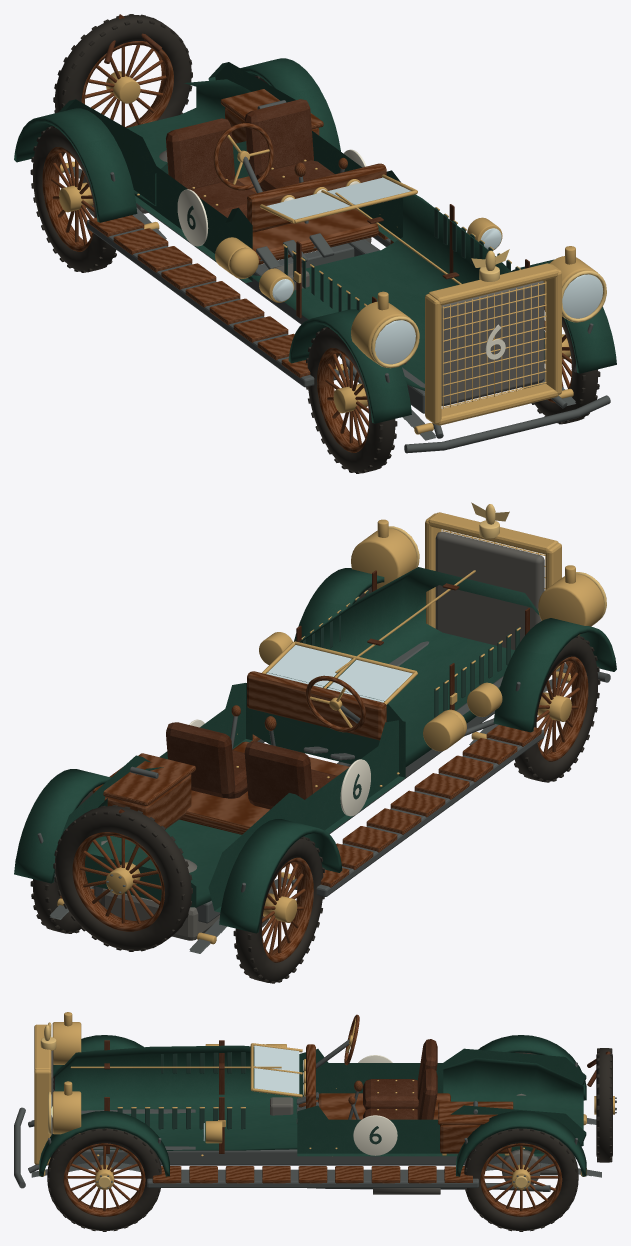
Rendered from RussoBalt_C24_55_LOD0.fbx.
3 views of the same model, one above another, from view 1: azimuth 30°, elevation 25°; view 2: azimuth 150°, elevation 25°; view 3: azimuth 270°, elevation 25° (orthographic). The views are drawn at different scales.
Parts seen in each view (by area): view 1: RB_Body_Root_OPT_Merged_RB_Paint_RacingGreen_OPT_DATA, RB_Radiator_Root_OPT_Merged_RB_Brass_Aged_OPT_DATA, RB_Body_Root_OPT_Merged_RB_Wood_Walnut_OPT_DATA, RB_Cockpit_Root_OPT_Merged_RB_Leather_Saddle_OPT_DATA, RB_Radiator_Core_OPT, RB_Wheel_SPARE_Spin_OPT_Merged_RB_Tire_Rubber_OPT_DATA, RB_Body_Root_OPT_Merged_RB_Brass_Aged_OPT_DATA, RB_Body_Root_OPT_Merged_RB_Steel_Blackened_OPT_DATA, RB_Wheel_FL_Spin_OPT_Merged_RB_Tire_Rubber_OPT_DATA, RB_Body_Root_OPT_Merged_RB_Acetylene_Glass_OPT_DATA, RB_Wheel_RL_Spin_OPT_Merged_RB_Tire_Rubber_OPT_DATA, RB_Chassis_Root_OPT_Merged_RB_Steel_Blackened_OPT_DATA (+17 smaller); view 2: RB_Body_Root_OPT_Merged_RB_Paint_RacingGreen_OPT_DATA, RB_Body_Root_OPT_Merged_RB_Wood_Walnut_OPT_DATA, RB_Body_Root_OPT_Merged_RB_Brass_Aged_OPT_DATA, RB_Radiator_Core_OPT, RB_Wheel_SPARE_Spin_OPT_Merged_RB_Tire_Rubber_OPT_DATA, RB_Cockpit_Root_OPT_Merged_RB_Leather_Saddle_OPT_DATA, RB_Cockpit_Root_OPT_Merged_RB_Wood_Walnut_OPT_DATA, RB_C24_55_Root_OPT_Merged_RB_Wood_Walnut_OPT_DATA, RB_Wheel_SPARE_Spin_OPT_Merged_RB_Wood_Walnut_OPT_DATA, RB_Windshield_Pivot_OPT_Merged_RB_Acetylene_Glass_OPT_DATA, RB_Wheel_RL_Spin_OPT_Merged_RB_Tire_Rubber_OPT_DATA, RB_Radiator_Root_OPT_Merged_RB_Brass_Aged_OPT_DATA (+16 smaller); view 3: RB_Body_Root_OPT_Merged_RB_Paint_RacingGreen_OPT_DATA, RB_Chassis_Root_OPT_Merged_RB_Steel_Blackened_OPT_DATA, RB_Body_Root_OPT_Merged_RB_Wood_Walnut_OPT_DATA, RB_Wheel_RR_Spin_OPT_Merged_RB_Tire_Rubber_OPT_DATA, RB_Wheel_FR_Spin_OPT_Merged_RB_Tire_Rubber_OPT_DATA, RB_Body_Root_OPT_Merged_RB_Brass_Aged_OPT_DATA, RB_Cockpit_Root_OPT_Merged_RB_Leather_Saddle_OPT_DATA, RB_Body_Root_OPT_Merged_RB_Steel_Blackened_OPT_DATA, RB_Wheel_FR_Spin_OPT_Merged_RB_Wood_Walnut_OPT_DATA, RB_Wheel_RR_Spin_OPT_Merged_RB_Wood_Walnut_OPT_DATA, RB_C24_55_Root_OPT_Merged_RB_Wood_Walnut_OPT_DATA, RB_Radiator_Root_OPT_Merged_RB_Brass_Aged_OPT_DATA (+9 smaller).
Boxes of the visible parts, x1,y1,x2,y2 form: RB_Body_Root_OPT_Merged_RB_Paint_RacingGreen_OPT_DATA: [14, 58, 616, 423]; RB_Radiator_Root_OPT_Merged_RB_Brass_Aged_OPT_DATA: [425, 263, 561, 425]; RB_Body_Root_OPT_Merged_RB_Wood_Walnut_OPT_DATA: [89, 176, 393, 377]; RB_Cockpit_Root_OPT_Merged_RB_Leather_Saddle_OPT_DATA: [166, 99, 334, 217]; RB_Radiator_Core_OPT: [441, 281, 544, 405]; RB_Wheel_SPARE_Spin_OPT_Merged_RB_Tire_Rubber_OPT_DATA: [53, 14, 192, 120]; RB_Body_Root_OPT_Merged_RB_Brass_Aged_OPT_DATA: [137, 192, 597, 363]; RB_Body_Root_OPT_Merged_RB_Steel_Blackened_OPT_DATA: [86, 172, 610, 453]; RB_Wheel_FL_Spin_OPT_Merged_RB_Tire_Rubber_OPT_DATA: [306, 327, 397, 473]; RB_Body_Root_OPT_Merged_RB_Acetylene_Glass_OPT_DATA: [272, 228, 602, 364]; RB_Wheel_RL_Spin_OPT_Merged_RB_Tire_Rubber_OPT_DATA: [30, 126, 116, 272]; RB_Chassis_Root_OPT_Merged_RB_Steel_Blackened_OPT_DATA: [60, 163, 575, 440]; RB_Body_Root_OPT_Merged_RB_Paint_RacingGreen_OPT_DATA: [14, 567, 616, 933]; RB_Body_Root_OPT_Merged_RB_Wood_Walnut_OPT_DATA: [179, 725, 541, 887]; RB_Body_Root_OPT_Merged_RB_Brass_Aged_OPT_DATA: [237, 519, 604, 786]; RB_Radiator_Core_OPT: [435, 531, 544, 649]; RB_Wheel_SPARE_Spin_OPT_Merged_RB_Tire_Rubber_OPT_DATA: [53, 805, 192, 951]; RB_Cockpit_Root_OPT_Merged_RB_Leather_Saddle_OPT_DATA: [166, 722, 337, 809]; RB_Cockpit_Root_OPT_Merged_RB_Wood_Walnut_OPT_DATA: [231, 671, 386, 740]; RB_C24_55_Root_OPT_Merged_RB_Wood_Walnut_OPT_DATA: [92, 753, 195, 837]; RB_Wheel_SPARE_Spin_OPT_Merged_RB_Wood_Walnut_OPT_DATA: [72, 832, 164, 931]; RB_Windshield_Pivot_OPT_Merged_RB_Acetylene_Glass_OPT_DATA: [266, 645, 412, 702]; RB_Wheel_RL_Spin_OPT_Merged_RB_Tire_Rubber_OPT_DATA: [233, 836, 324, 983]; RB_Radiator_Root_OPT_Merged_RB_Brass_Aged_OPT_DATA: [425, 512, 561, 670]; RB_Body_Root_OPT_Merged_RB_Paint_RacingGreen_OPT_DATA: [39, 1035, 586, 1176]; RB_Chassis_Root_OPT_Merged_RB_Steel_Blackened_OPT_DATA: [31, 1109, 601, 1191]; RB_Body_Root_OPT_Merged_RB_Wood_Walnut_OPT_DATA: [152, 1093, 472, 1183]; RB_Wheel_RR_Spin_OPT_Merged_RB_Tire_Rubber_OPT_DATA: [464, 1128, 578, 1231]; RB_Wheel_FR_Spin_OPT_Merged_RB_Tire_Rubber_OPT_DATA: [47, 1128, 161, 1231]; RB_Body_Root_OPT_Merged_RB_Brass_Aged_OPT_DATA: [52, 1012, 524, 1149]; RB_Cockpit_Root_OPT_Merged_RB_Leather_Saddle_OPT_DATA: [363, 1039, 437, 1119]; RB_Body_Root_OPT_Merged_RB_Steel_Blackened_OPT_DATA: [14, 1062, 577, 1188]; RB_Wheel_FR_Spin_OPT_Merged_RB_Wood_Walnut_OPT_DATA: [63, 1143, 145, 1216]; RB_Wheel_RR_Spin_OPT_Merged_RB_Wood_Walnut_OPT_DATA: [480, 1143, 562, 1216]; RB_C24_55_Root_OPT_Merged_RB_Wood_Walnut_OPT_DATA: [438, 1101, 513, 1153]; RB_Radiator_Root_OPT_Merged_RB_Brass_Aged_OPT_DATA: [34, 1024, 51, 1164].
Bounding box in the file's own units: 163 × 141 × 463.
12 materials, 3 textured.
